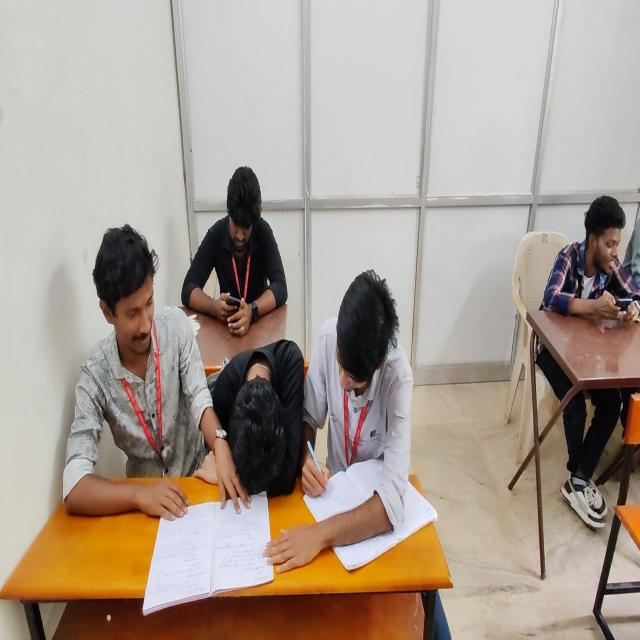reading: (60, 221, 244, 594)
sleeping: (196, 325, 315, 499)
using_mobile: (178, 145, 298, 332), (536, 179, 640, 335)
writing: (277, 260, 428, 579)
